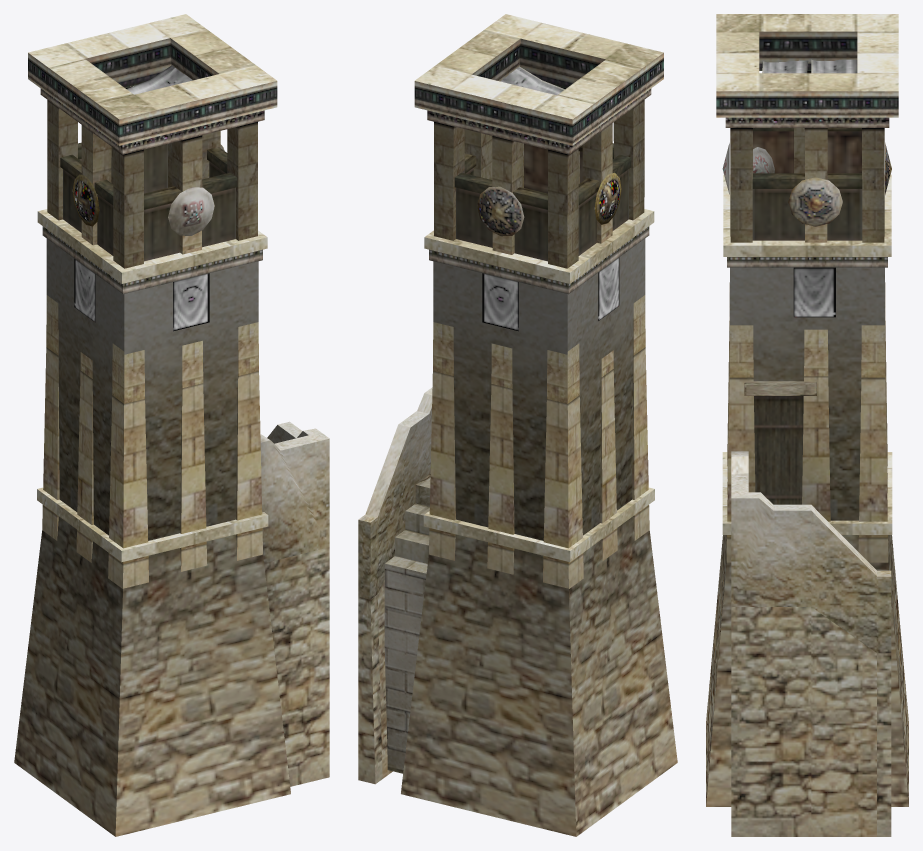
The model's file is s_carthaginians_scout_tower.glb.
3 views of the same model, side by side, from view 1: azimuth 30°, elevation 25°; view 2: azimuth 150°, elevation 25°; view 3: azimuth 270°, elevation 25° (orthographic).
Parts seen in each view (by area): view 1: s_carthaginians_scout_tower_part0; view 2: s_carthaginians_scout_tower_part0; view 3: s_carthaginians_scout_tower_part0.
Part boxes in pixels (x1=…): s_carthaginians_scout_tower_part0: x1=14, y1=14, x2=329, y2=836; s_carthaginians_scout_tower_part0: x1=358, y1=14, x2=677, y2=836; s_carthaginians_scout_tower_part0: x1=706, y1=14, x2=908, y2=836.
Size of the model in its own units: 2.2 by 6.64 by 1.7.
Materials: 1 (1 with a texture image).
